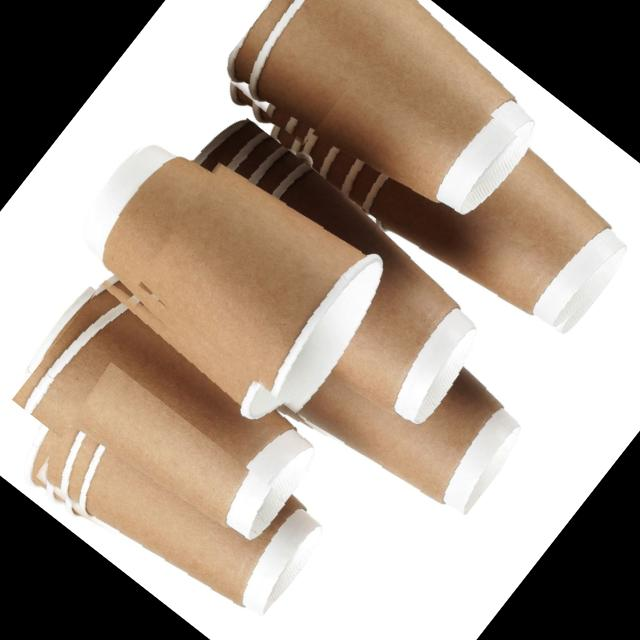PaperCardboard: (216, 125, 513, 514), (94, 129, 378, 425), (11, 285, 311, 531), (225, 0, 524, 210), (294, 140, 627, 326), (42, 422, 317, 615)
